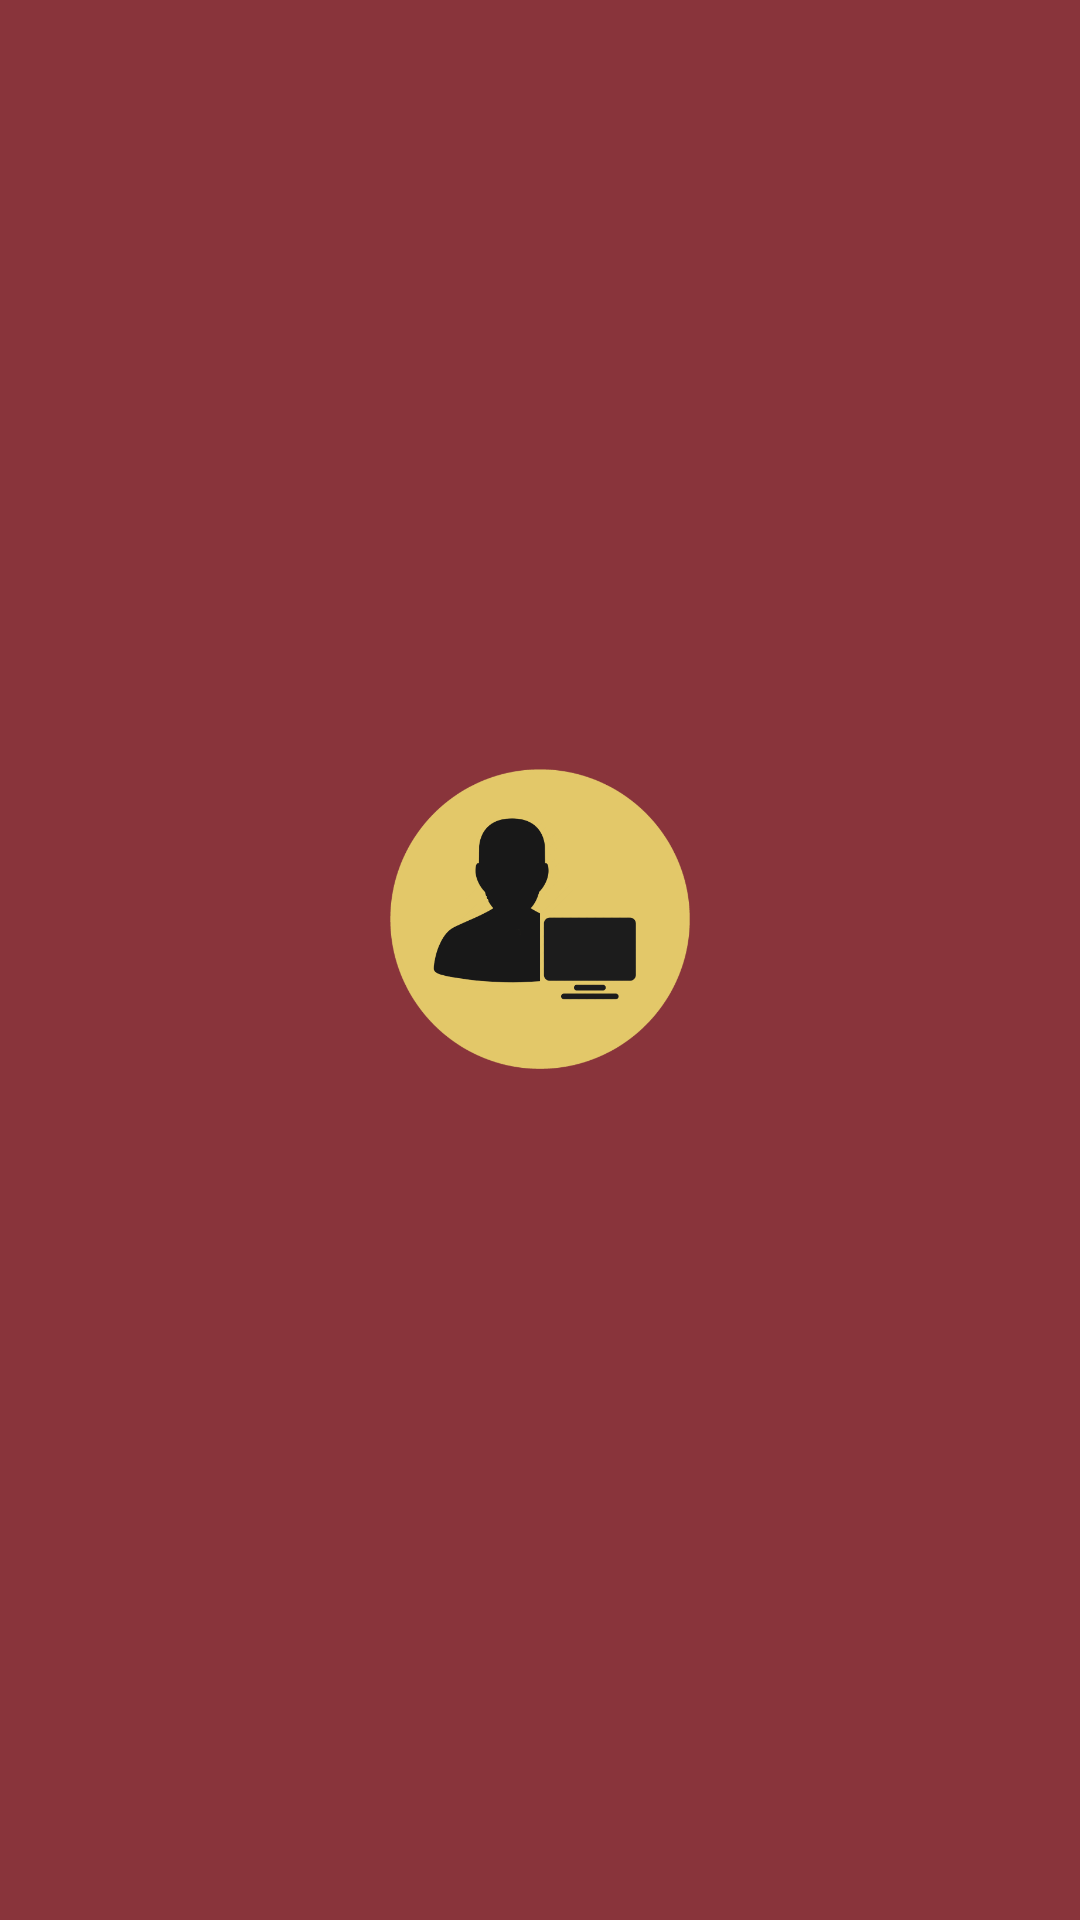

Icon bounding boxes for this 1080 x 1920 phone screenshot, format [left=x1, top=y1, right=x2, bottom=y2]:
admin: [left=390, top=769, right=690, bottom=1069]
